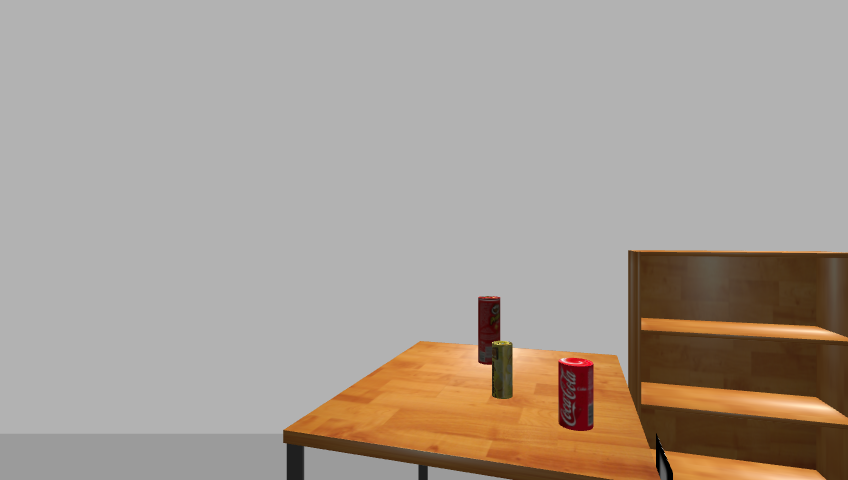aruco marker: (650, 435, 676, 480)
biscuits pack: (492, 341, 515, 400)
bookshelf: (621, 249, 848, 480)
coke can: (556, 357, 596, 431)
dinner table: (277, 341, 662, 480)
pringles can: (475, 295, 503, 367)
